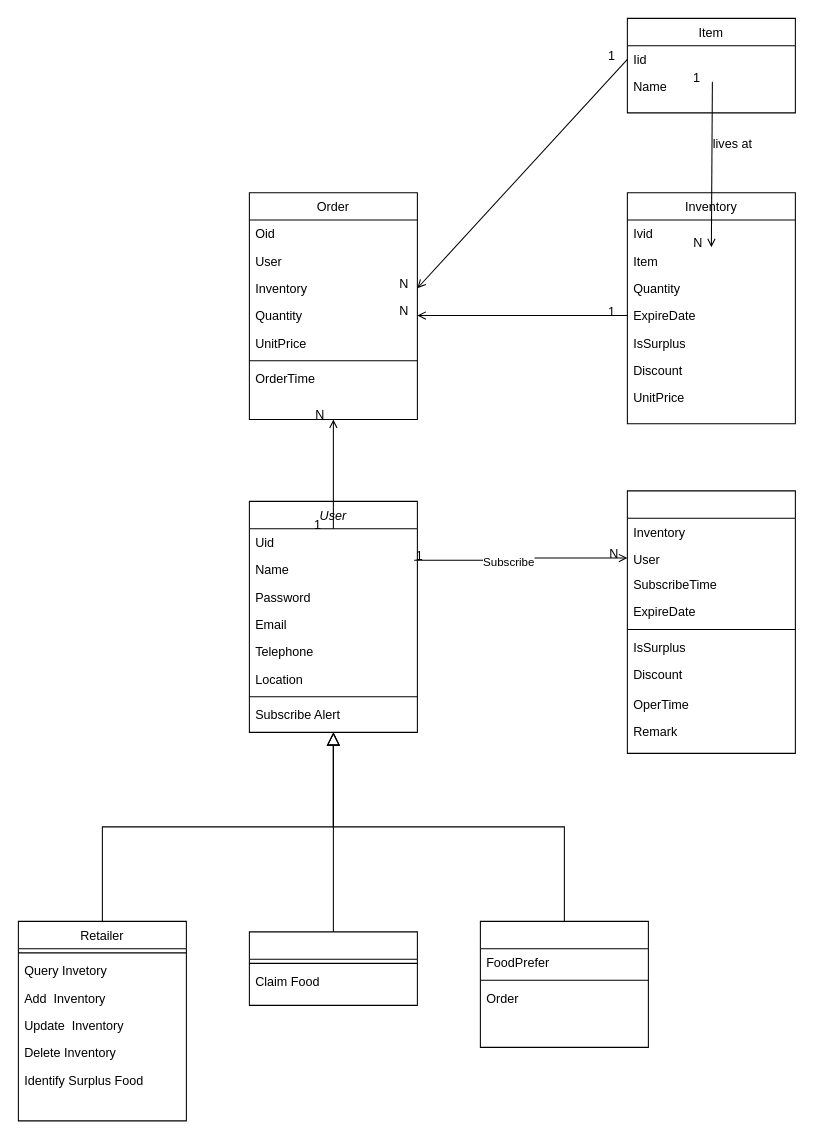
This 814x1139 diagram has some shape labels left out. The box of each missing label's shape, as (x1, y1, x2, y2) in pixels:
CharitableOrg: (248, 931, 417, 1005)
Consumers: (479, 920, 648, 1047)
SurplusAlert: (626, 490, 795, 753)
